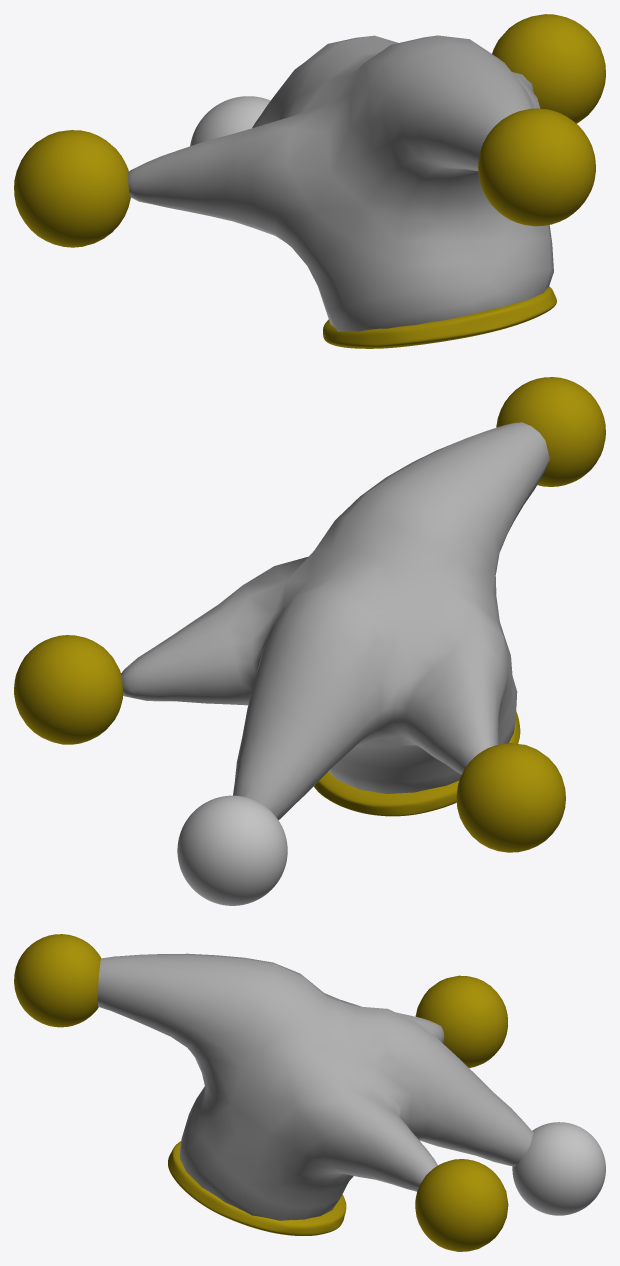
The model's file is Chapeau04.fbx.
3 views of the same model, one above another, from view 1: azimuth 30°, elevation 25°; view 2: azimuth 150°, elevation 25°; view 3: azimuth 270°, elevation 25° (orthographic). The views are drawn at different scales.
Parts seen in each view (by area): view 1: Chapeau04; view 2: Chapeau04; view 3: Chapeau04.
Part boxes in pixels (box(x1,y1,x2,y2)): Chapeau04: box(14, 14, 605, 348); Chapeau04: box(14, 377, 605, 905); Chapeau04: box(14, 934, 605, 1251).
Size of the model in its own units: 74.09 by 41.51 by 83.29.
